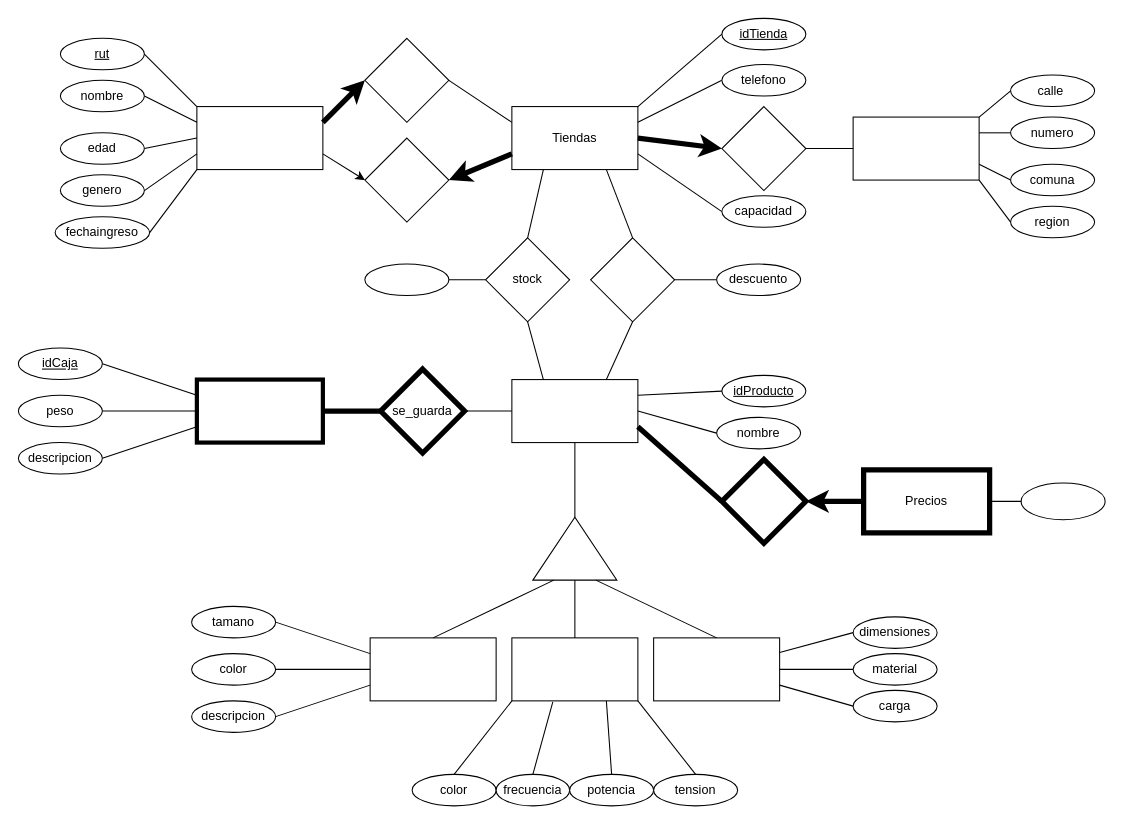
This 1124x824 diagram has some shape labels left out. Each missing label, with the box of its shape:
Cajas: (194, 377, 324, 444)
cantidad: (364, 263, 449, 296)
Direccion: (852, 116, 979, 180)
Dormitorio: (369, 637, 496, 701)
es_jefe: (364, 137, 449, 222)
Iluminacion: (511, 637, 638, 701)
Living: (653, 637, 780, 701)
oferta: (590, 237, 675, 322)
Personal: (196, 106, 323, 170)
precio: (1020, 482, 1105, 520)
Productos: (511, 379, 638, 443)
trabaja_en: (364, 37, 449, 122)
ubicado_en: (721, 106, 806, 191)
valor: (719, 456, 808, 545)
